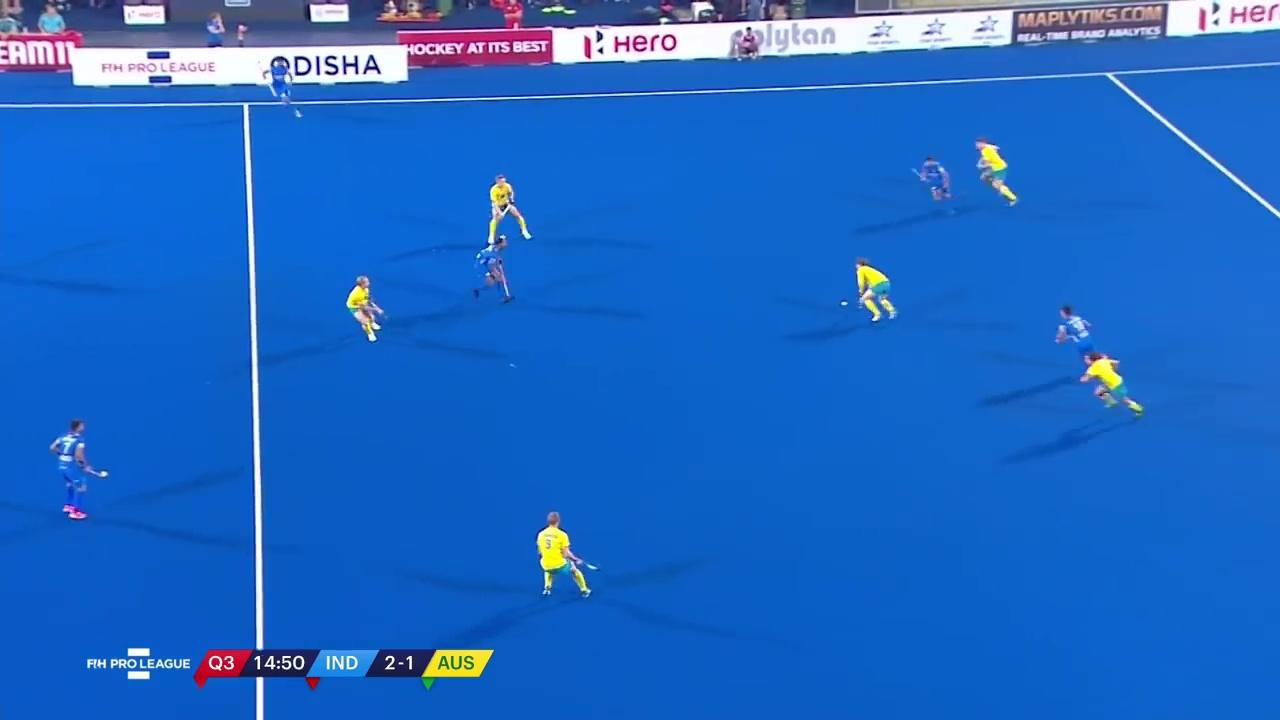ball: (837, 296, 850, 311)
